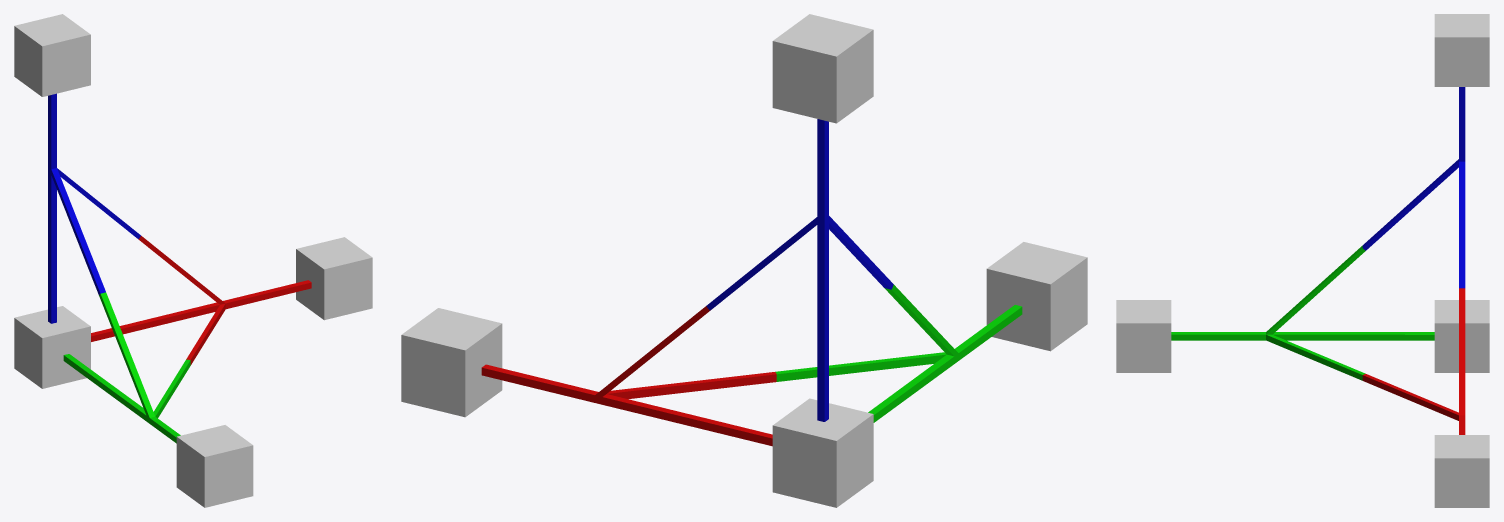
The model's file is SM_Gizmo_Scale.fbx.
The picture shows the model from 3 angles, left to right: view 1: azimuth 30°, elevation 25°; view 2: azimuth 150°, elevation 25°; view 3: azimuth 270°, elevation 25°; orthographic projection. The views are drawn at different scales.
Parts seen in each view (by area): view 1: Cube.001, Cube.005, Cube.002, Cube.004, Cube.003; view 2: Cube.001, Cube.002, Cube.003, Cube.004, Cube.005; view 3: Cube.001, Cube.002, Cube.004, Cube.005, Cube.003.
Part boxes in pixels (bbox=[...]): Cube.001: bbox=[48, 93, 311, 443]; Cube.005: bbox=[176, 425, 253, 507]; Cube.002: bbox=[14, 14, 90, 96]; Cube.004: bbox=[296, 237, 372, 320]; Cube.003: bbox=[14, 306, 90, 388]; Cube.001: bbox=[481, 119, 1022, 446]; Cube.002: bbox=[772, 14, 873, 123]; Cube.003: bbox=[772, 398, 873, 507]; Cube.004: bbox=[401, 308, 502, 417]; Cube.005: bbox=[986, 242, 1087, 351]; Cube.001: bbox=[1171, 87, 1465, 434]; Cube.002: bbox=[1434, 14, 1489, 86]; Cube.004: bbox=[1434, 435, 1489, 507]; Cube.005: bbox=[1116, 300, 1171, 372]; Cube.003: bbox=[1434, 300, 1489, 372].
Size of the model in its own units: 73.01 by 73.12 by 72.45.
